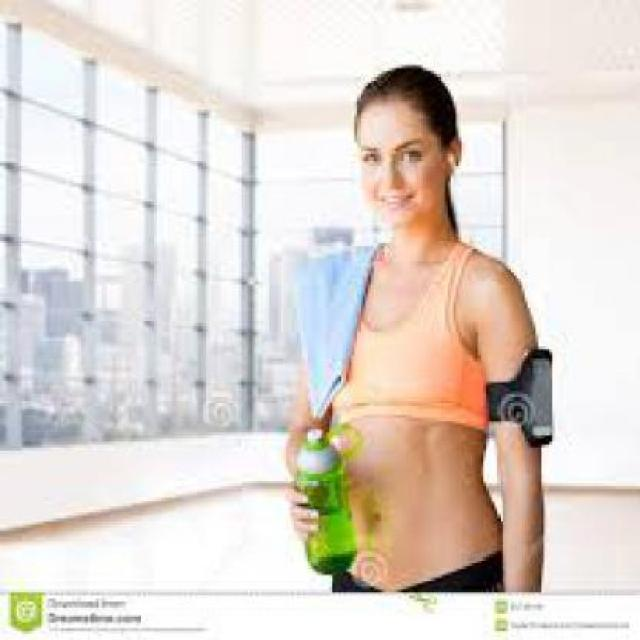Drinking: (286, 424, 366, 590)
